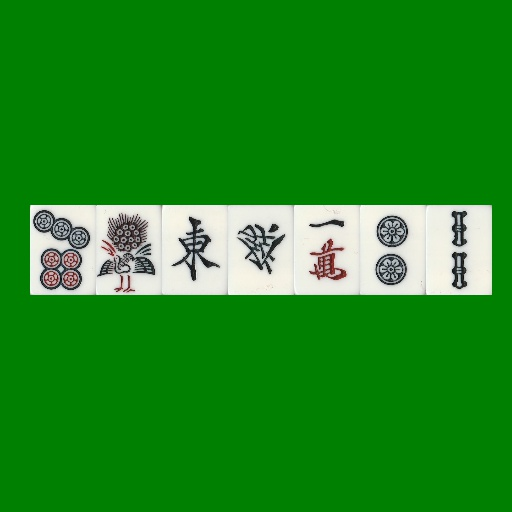1m: (294, 205, 360, 295)
1s: (96, 205, 162, 295)
2p: (360, 205, 426, 295)
2s: (426, 205, 492, 295)
7p: (30, 205, 96, 295)
east: (162, 205, 228, 295)
hatsu: (228, 205, 294, 295)
